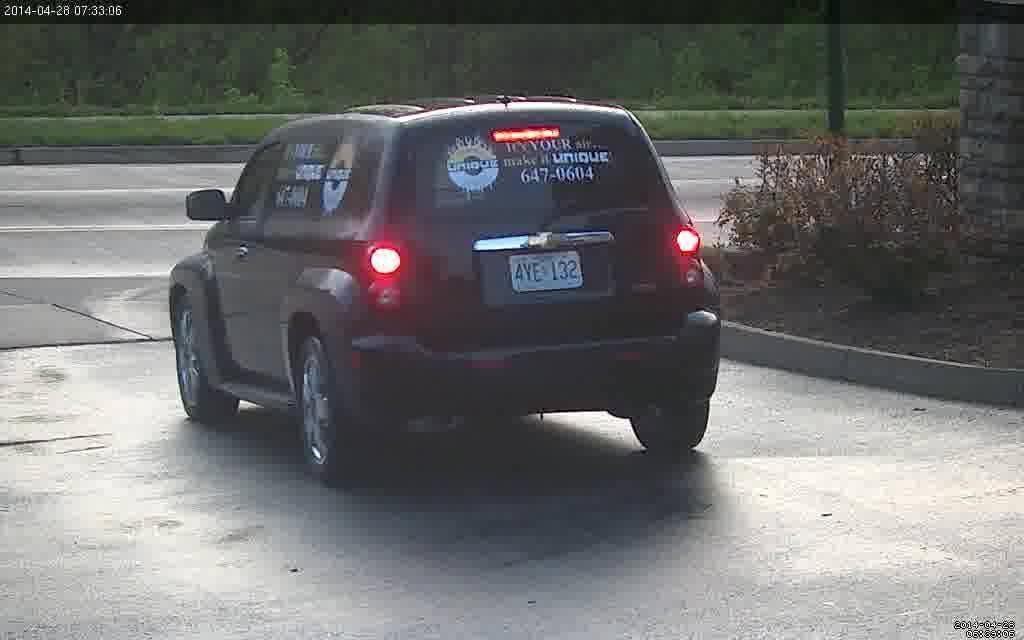placa de veiculo: (497, 237, 625, 309)
